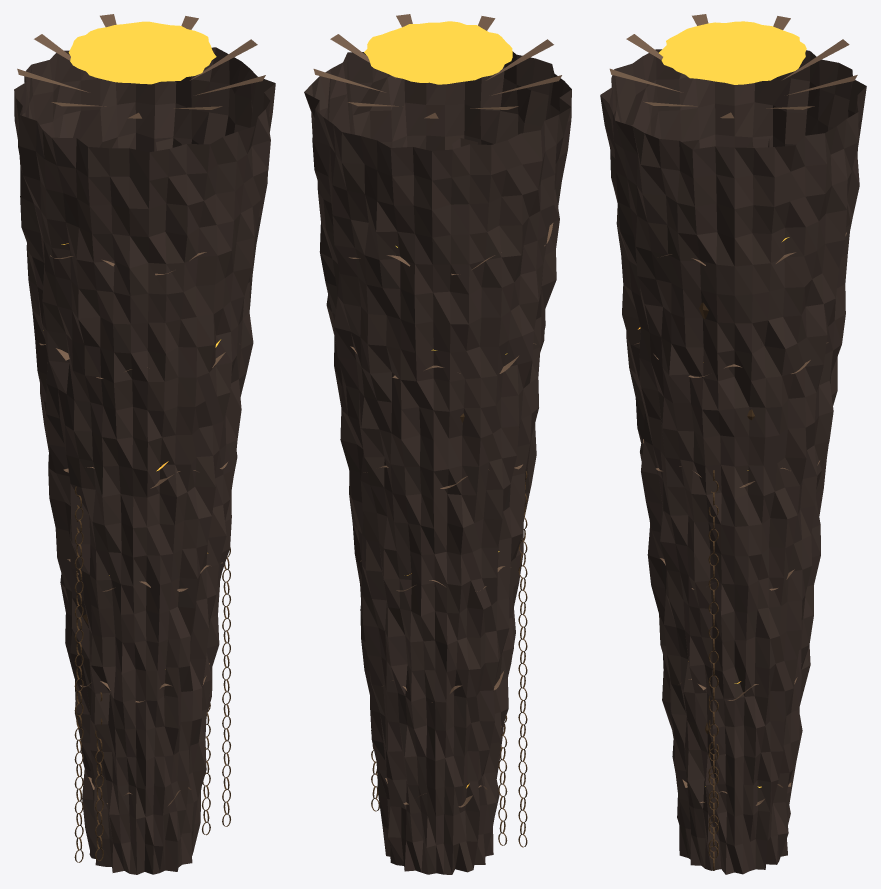
Rendered from BatShaftV18_17.fbx.
The picture shows the model from 3 angles, left to right: view 1: azimuth 30°, elevation 25°; view 2: azimuth 150°, elevation 25°; view 3: azimuth 270°, elevation 25°; orthographic projection.
Parts seen in each view (by area): view 1: BatShaftV18_17; view 2: BatShaftV18_17; view 3: BatShaftV18_17.
Boxes of the visible parts, x1,y1,x2,y2 form: BatShaftV18_17: (14, 14, 275, 874); BatShaftV18_17: (304, 14, 571, 874); BatShaftV18_17: (600, 14, 866, 874).
Bounding box in the file's own units: 5.62 × 19 × 5.75.
